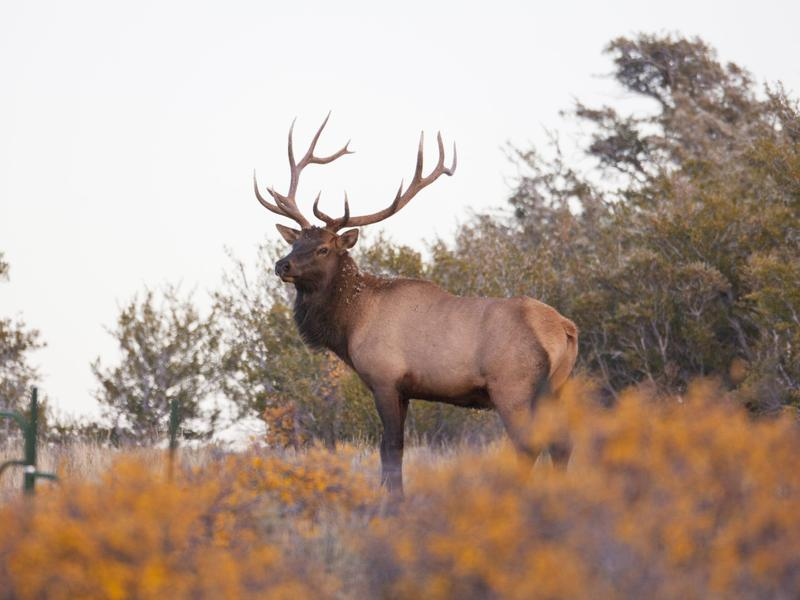elk: (248, 121, 583, 509)
